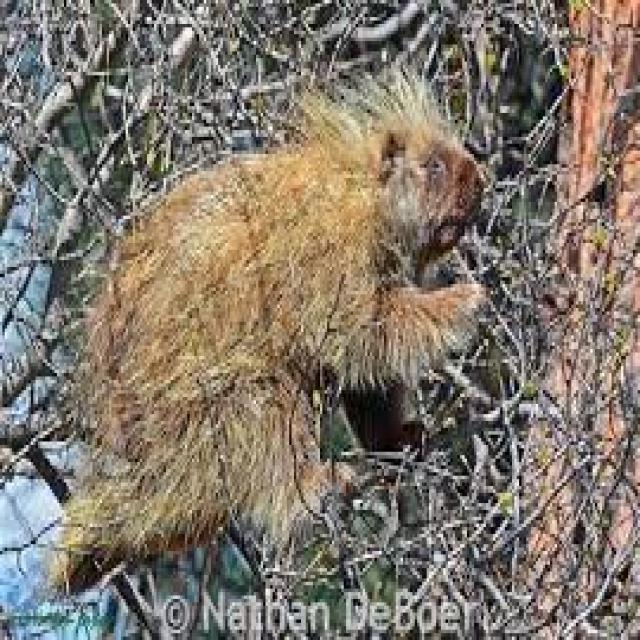Porcupine: (61, 105, 489, 572)
